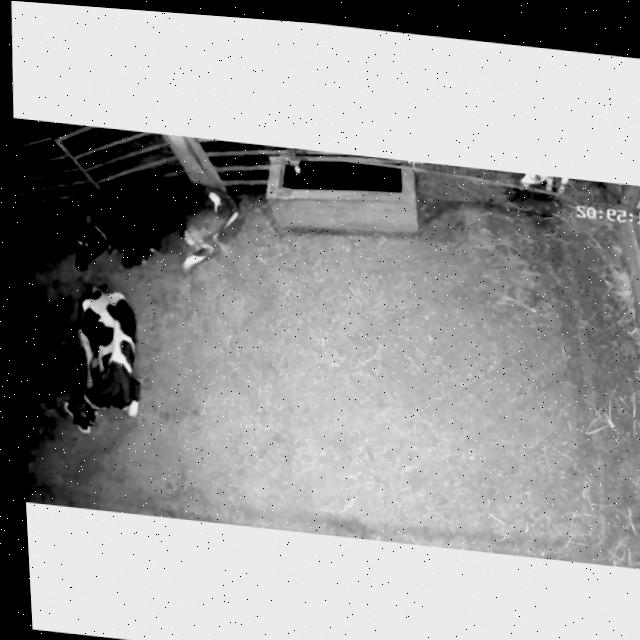lay: (57, 156, 252, 295), (44, 267, 160, 456)
